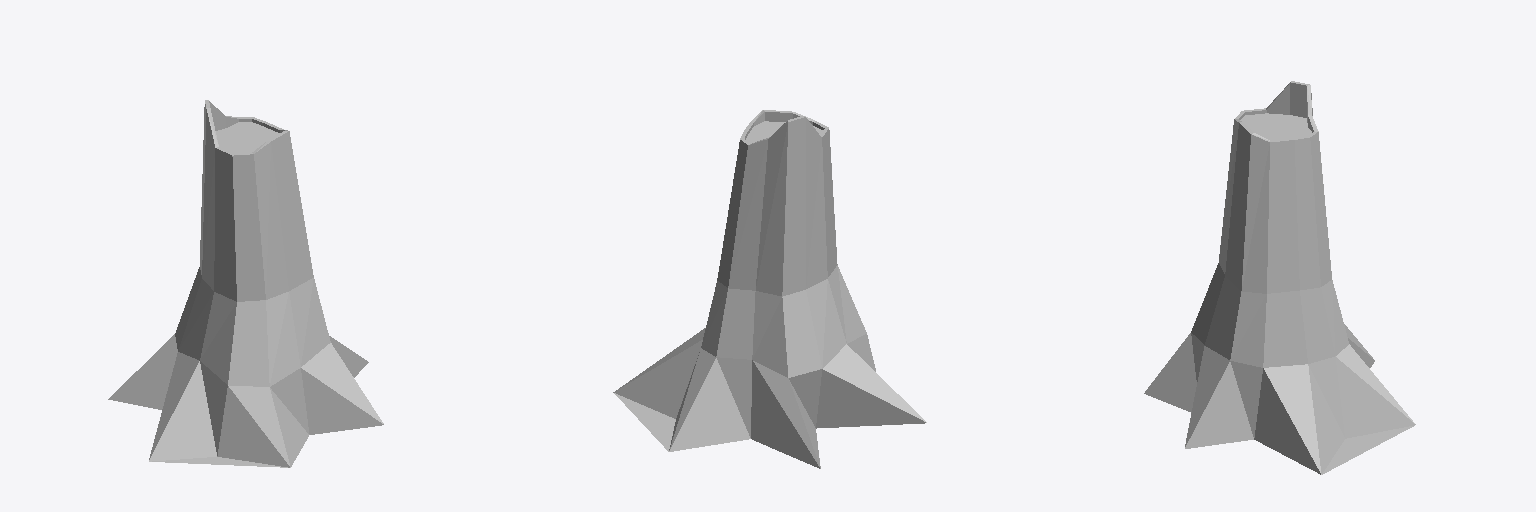
Rendered from T2_trunk.obj.
3 views of the same model, side by side, from view 1: azimuth 30°, elevation 25°; view 2: azimuth 150°, elevation 25°; view 3: azimuth 270°, elevation 25° (orthographic).
Parts seen in each view (by area): view 1: Stump_average_high_Cube.015; view 2: Stump_average_high_Cube.015; view 3: Stump_average_high_Cube.015.
Boxes of the visible parts, x1=… form: Stump_average_high_Cube.015: x1=108, y1=100, x2=383, y2=467; Stump_average_high_Cube.015: x1=613, y1=110, x2=926, y2=468; Stump_average_high_Cube.015: x1=1144, y1=81, x2=1415, y2=474.
Bounding box in the file's own units: 3.26 × 3.58 × 2.87.